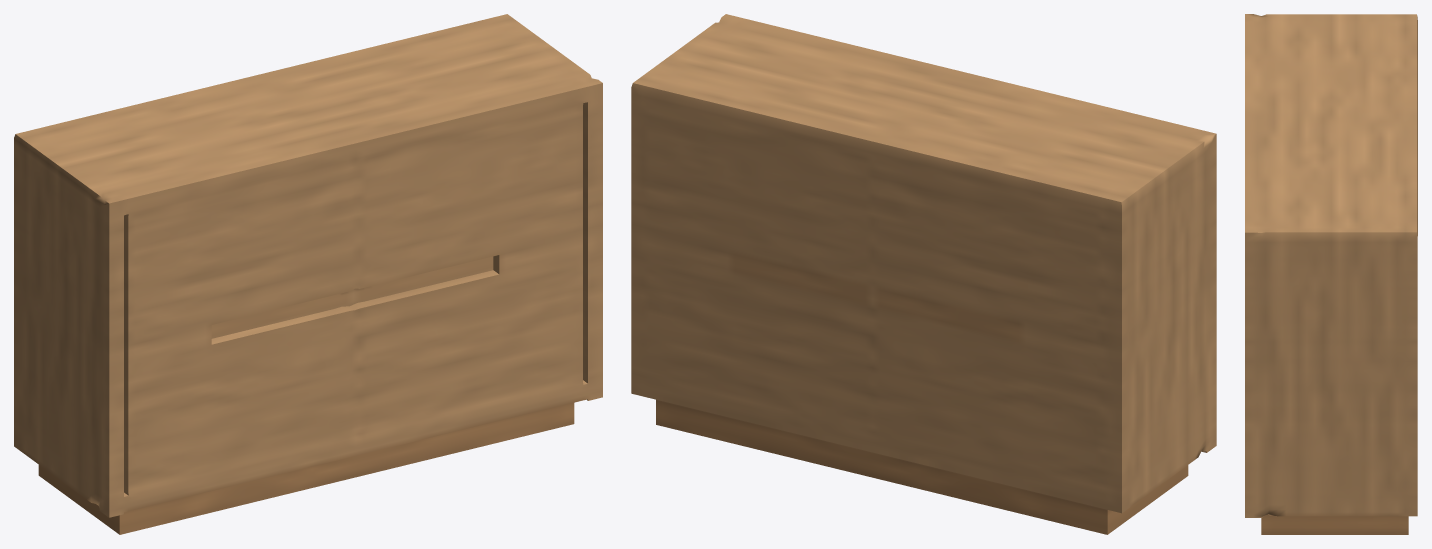
File: dexel.glb
3 renders of one model, left to right at view 1: azimuth 30°, elevation 25°; view 2: azimuth 150°, elevation 25°; view 3: azimuth 270°, elevation 25°, orthographic. The views are drawn at different scales.
Bounding box in the file's own units: 1.2 × 0.7967 × 0.4008.
Materials: 1 (1 with a texture image).
